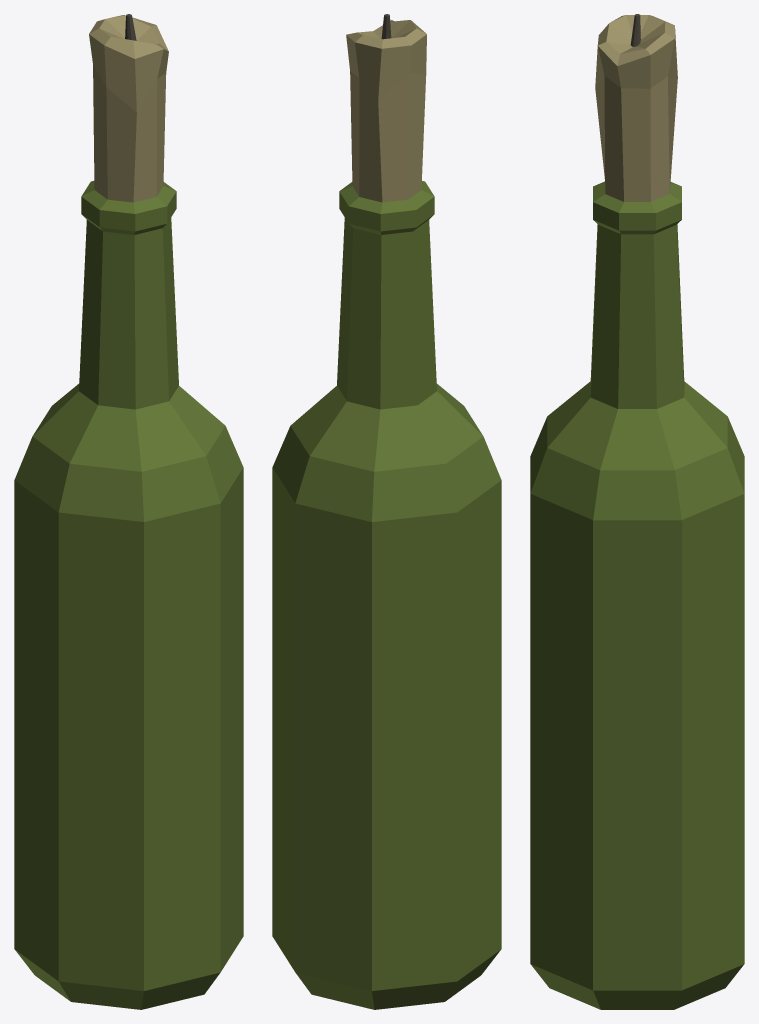
Rendered from CandleBottle_3.fbx.
The picture shows the model from 3 angles, left to right: view 1: azimuth 30°, elevation 25°; view 2: azimuth 150°, elevation 25°; view 3: azimuth 270°, elevation 25°; orthographic projection.
Visible parts, largest first — view 1: CandleBottle_3; view 2: CandleBottle_3; view 3: CandleBottle_3.
Part boxes in pixels (left/top/right/bottom): CandleBottle_3: left=14, top=14, right=243, bottom=1009; CandleBottle_3: left=272, top=14, right=501, bottom=1009; CandleBottle_3: left=530, top=14, right=744, bottom=1009.
Size of the model in its own units: 7.65 by 37.72 by 7.65.
